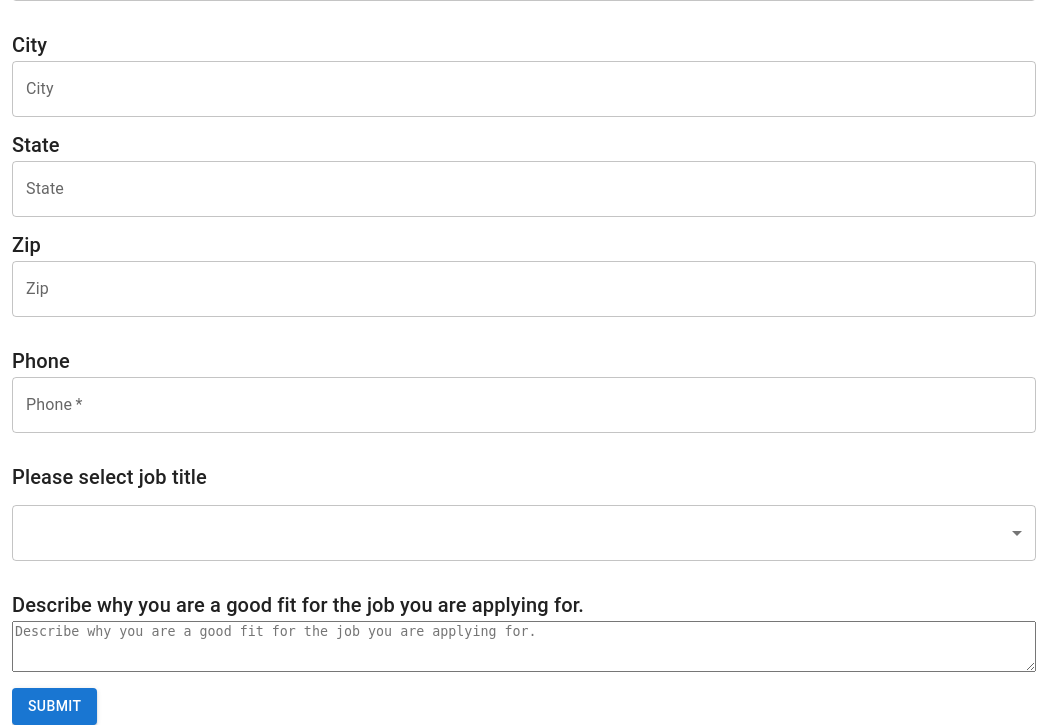
Scenario: renders form with error
(page scrolled)
Click the button "Submit": (55, 706) [12,688,97,724]
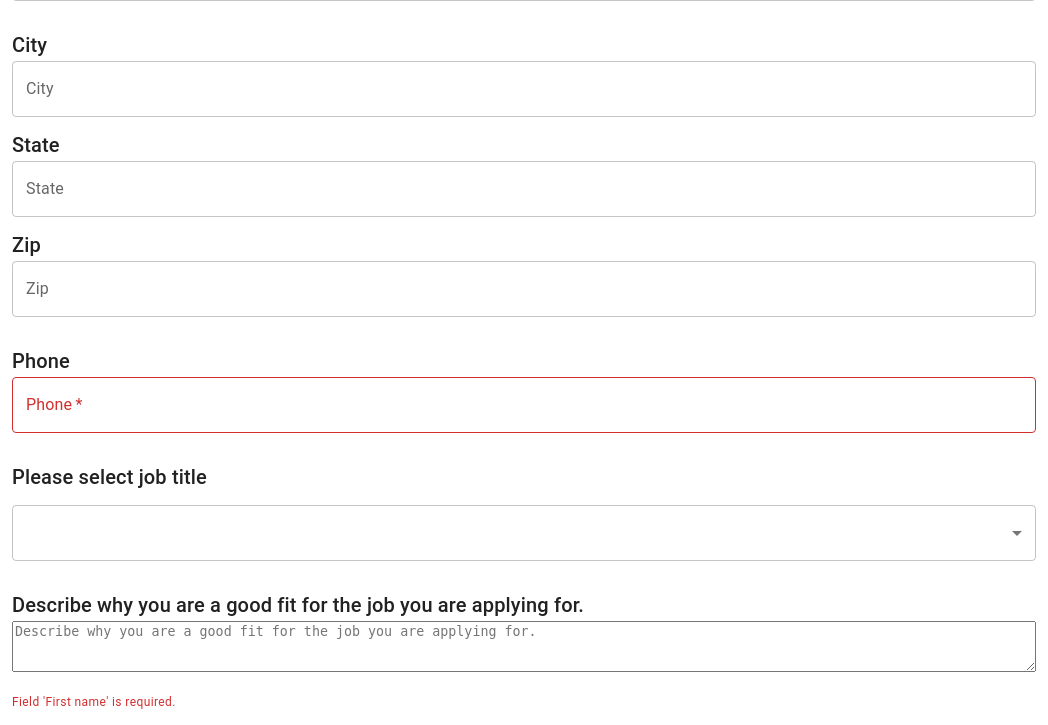
Now the text "Field 'First name' is required." is shown, box [12,695,176,709]
